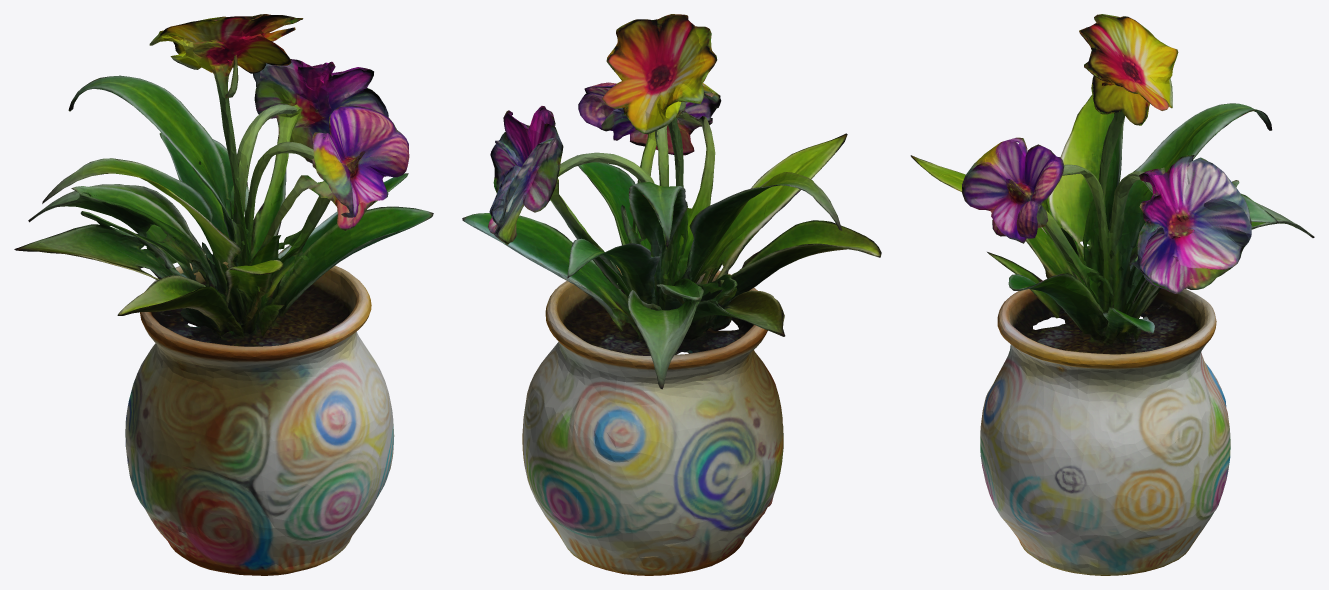
File: example_3d.glb
3 renders of one model, left to right at view 1: azimuth 30°, elevation 25°; view 2: azimuth 150°, elevation 25°; view 3: azimuth 270°, elevation 25°, orthographic. The views are drawn at different scales.
Parts seen in each view (by area): view 1: world; view 2: world; view 3: world.
Part boxes in pixels (x1,y1,x2,y2): world: (14,14,433,575); world: (462,14,881,575); world: (910,14,1314,575).
Size of the model in its own units: 0.7411 by 1 by 0.7307.
1 material, 1 textured.
